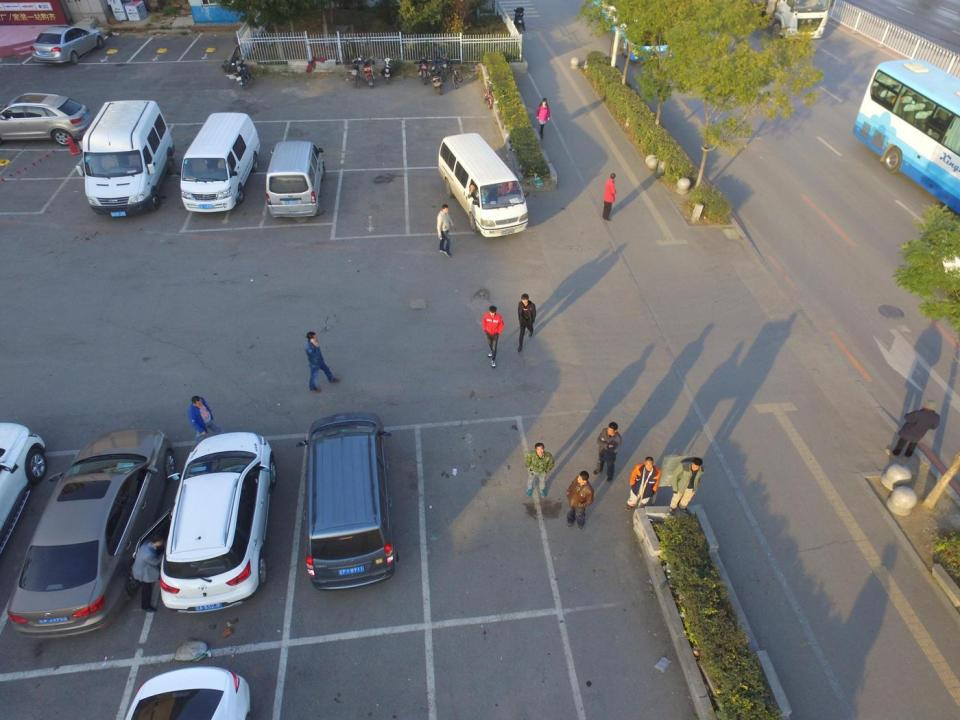bus: (852, 57, 960, 216), (587, 0, 678, 64)
car: (8, 422, 174, 639), (160, 430, 276, 612), (0, 90, 90, 145), (31, 25, 103, 67)
van: (295, 412, 398, 589), (78, 100, 174, 219), (437, 131, 530, 236), (180, 111, 262, 218), (267, 140, 325, 220)
